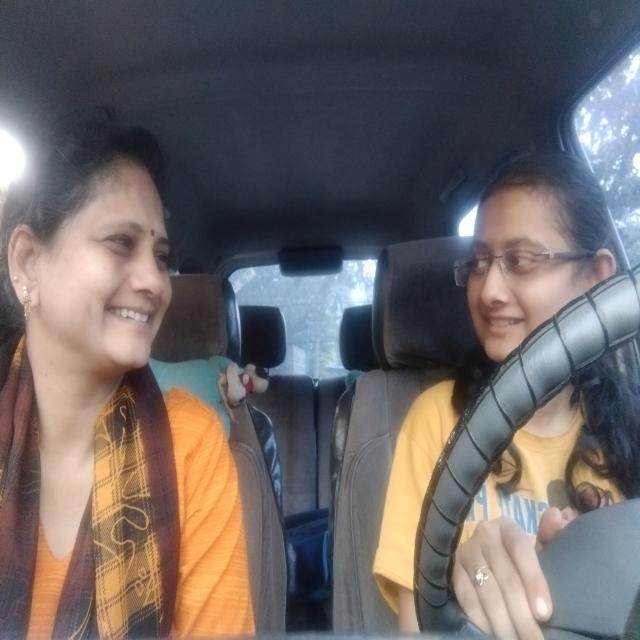LeftRight: (23, 140, 178, 369), (463, 156, 589, 329)
talking: (107, 293, 161, 332), (478, 302, 526, 332)
